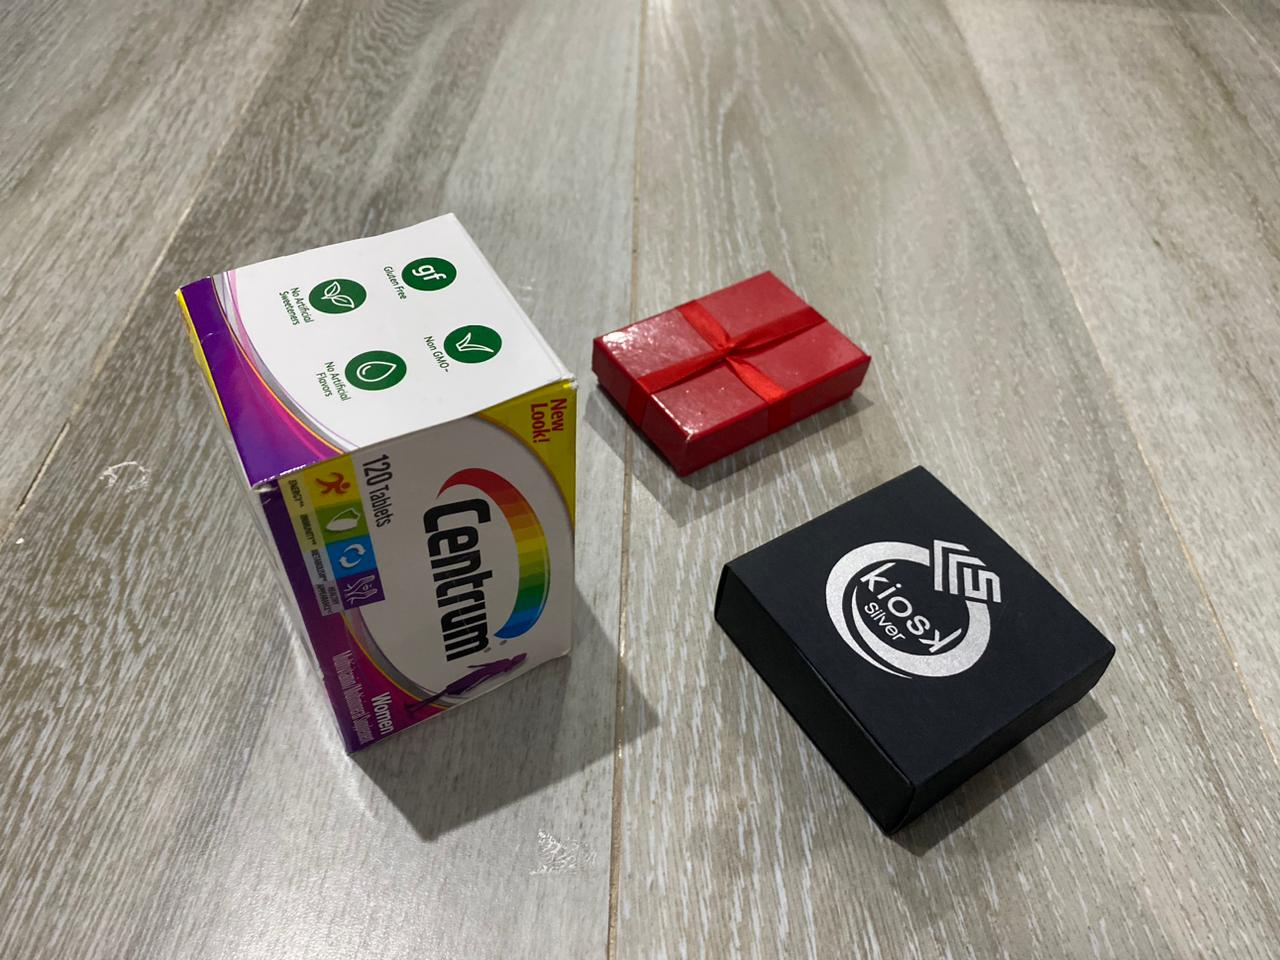Black Box: (588, 264, 877, 483)
Centrum: (166, 211, 583, 752)
Red Box: (707, 468, 1120, 839)
